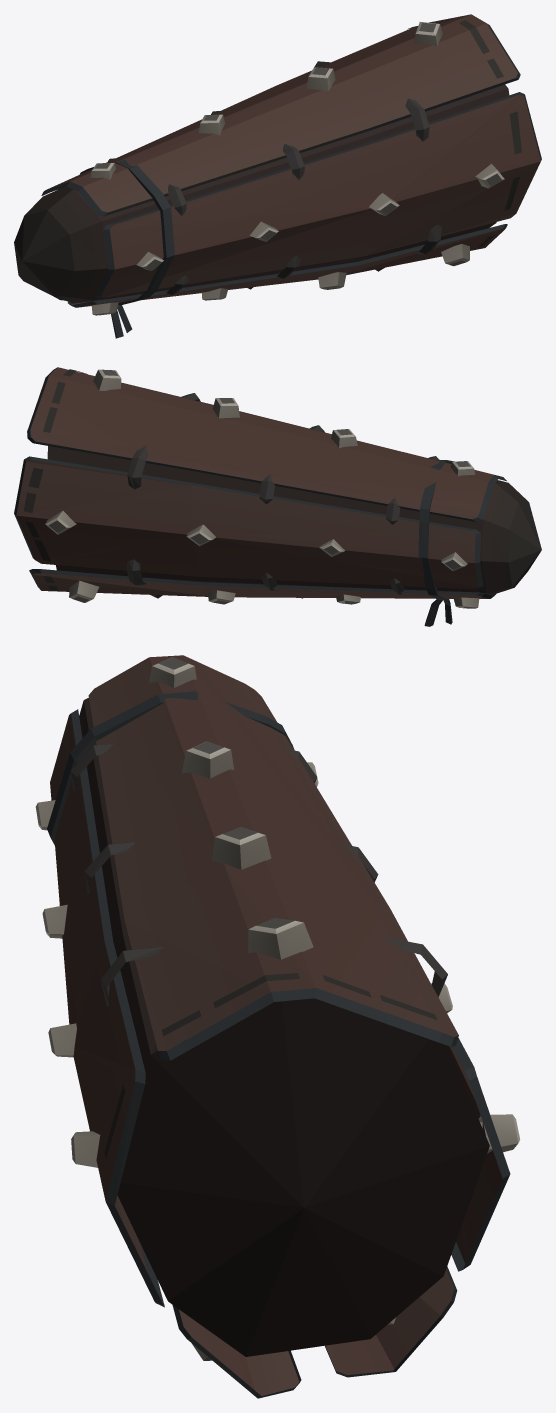
The model's file is vikingArmorLowerArmBraceFemale.glb.
3 views of the same model, one above another, from view 1: azimuth 30°, elevation 25°; view 2: azimuth 150°, elevation 25°; view 3: azimuth 270°, elevation 25° (orthographic). The views are drawn at different scales.
Visible parts, largest first — view 1: vikingArmorLowerArmBrace; view 2: vikingArmorLowerArmBrace; view 3: vikingArmorLowerArmBrace.
Part boxes in pixels (left/top/right/bottom): vikingArmorLowerArmBrace: left=14, top=14, right=541, bottom=338; vikingArmorLowerArmBrace: left=14, top=367, right=541, bottom=626; vikingArmorLowerArmBrace: left=35, top=655, right=520, bottom=1398.
Bounding box in the file's own units: 0.3266 × 0.1428 × 0.1456.
